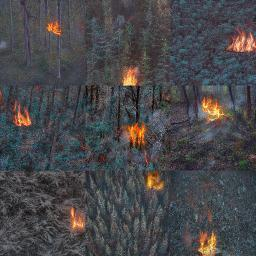Small fire: (223, 25, 256, 60), (198, 93, 230, 126), (190, 225, 224, 256), (6, 100, 39, 131), (64, 202, 93, 236), (122, 119, 151, 150), (116, 63, 143, 90), (142, 167, 168, 194), (43, 16, 66, 43)
